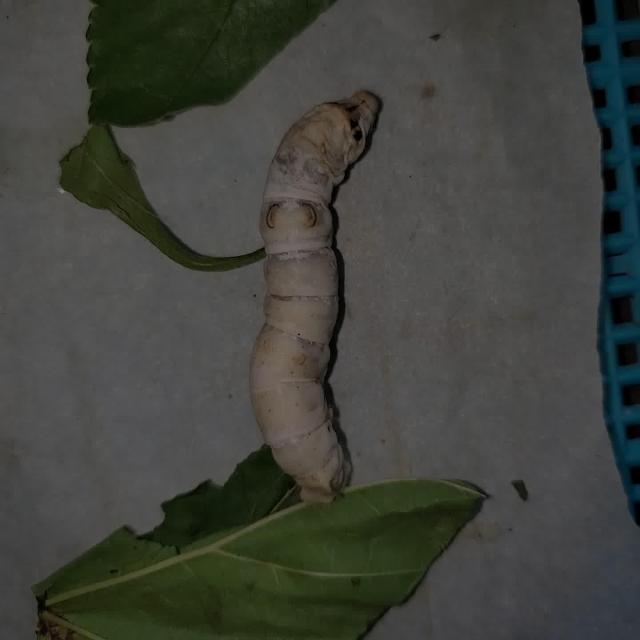Grasserie: (232, 71, 397, 501)
